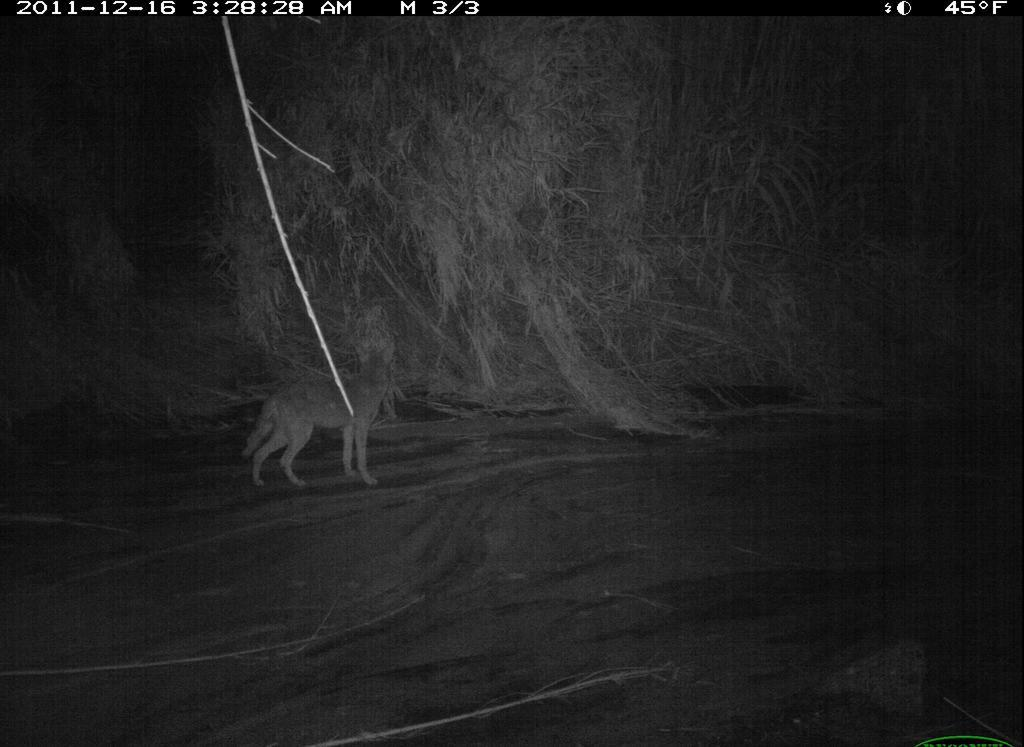coyote: (228, 336, 419, 497)
